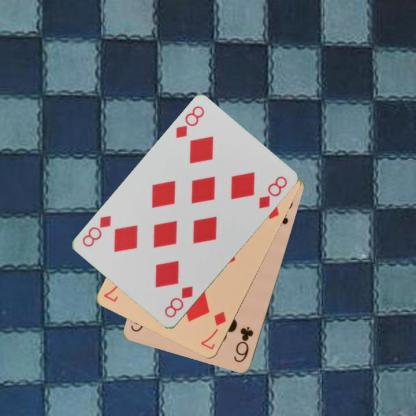6c: (231, 324, 255, 364)
7d: (198, 308, 228, 352)
8d: (172, 103, 206, 140), (161, 284, 195, 320)
